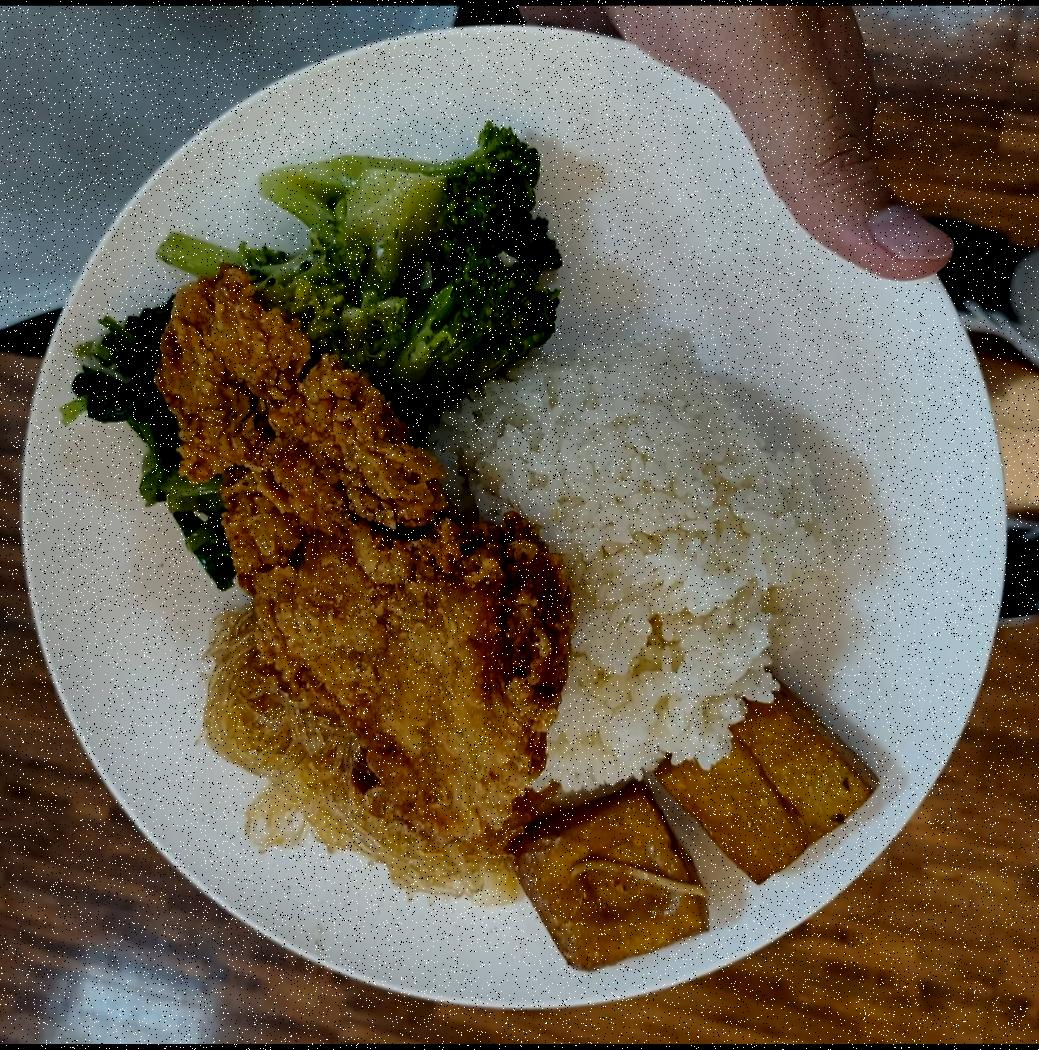kara chicken leg steak: (171, 292, 560, 791)
plate: (20, 11, 1029, 1014)
side dish: (519, 716, 875, 970), (177, 632, 488, 916), (267, 129, 580, 367)
white rice: (412, 323, 824, 813)
